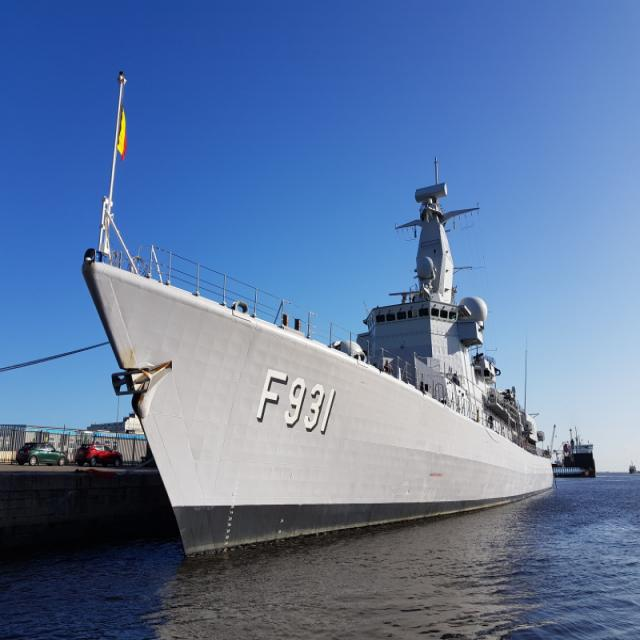Fragata: (78, 152, 559, 567)
